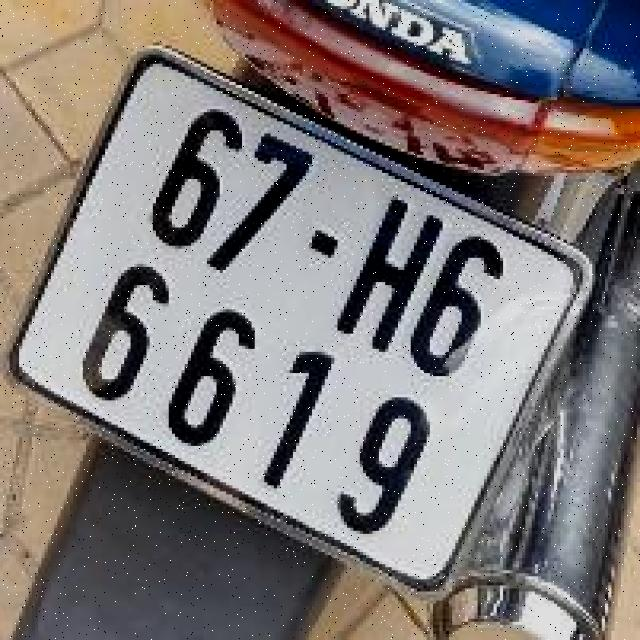1: (240, 332, 352, 498)
6: (399, 227, 523, 396), (156, 289, 276, 460), (68, 246, 184, 416), (141, 98, 255, 259)
7: (197, 123, 330, 291)
9: (326, 375, 452, 551)
H: (328, 177, 457, 360)
